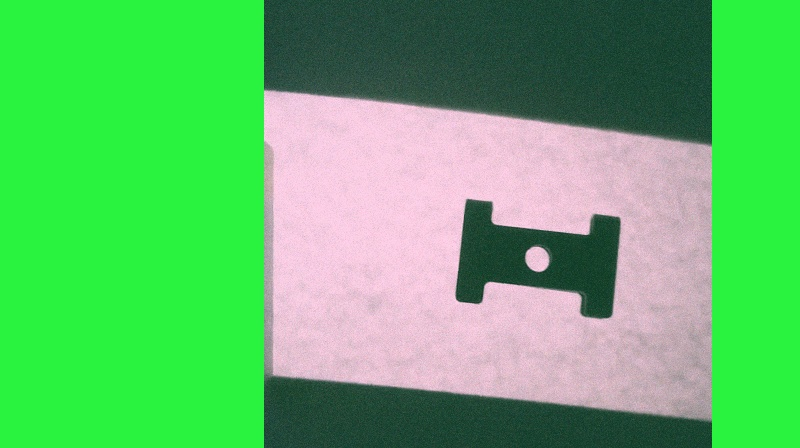O002: (445, 193, 625, 323)
